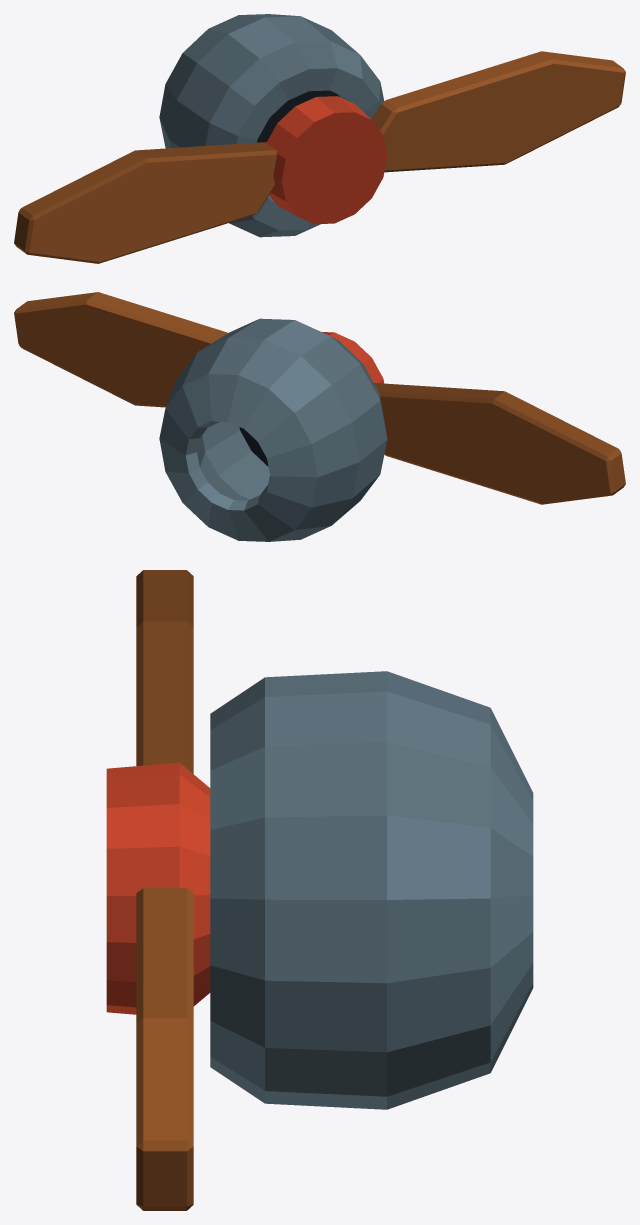
File: EA_PropellerCowl.fbx
3 renders of one model, top to bottom at view 1: azimuth 30°, elevation 25°; view 2: azimuth 150°, elevation 25°; view 3: azimuth 270°, elevation 25°, orthographic. The views are drawn at different scales.
Parts seen in each view (by area): view 1: EA_PropellerCowl; view 2: EA_PropellerCowl; view 3: EA_PropellerCowl.
Boxes of the visible parts, x1,y1,x2,y2 form: EA_PropellerCowl: (14,14,625,263); EA_PropellerCowl: (14,292,625,541); EA_PropellerCowl: (106,570,533,1210).
Size of the model in its own units: 1.14 by 0.36 by 0.35.
